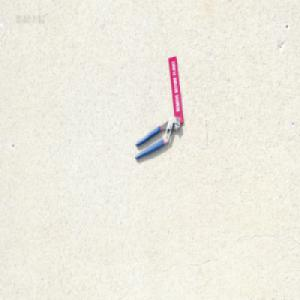Label: (167, 55, 184, 124)
Pliers: (134, 116, 180, 161)
